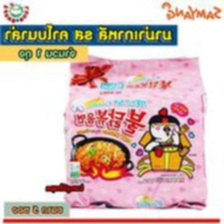snack: (55, 46, 215, 214)
